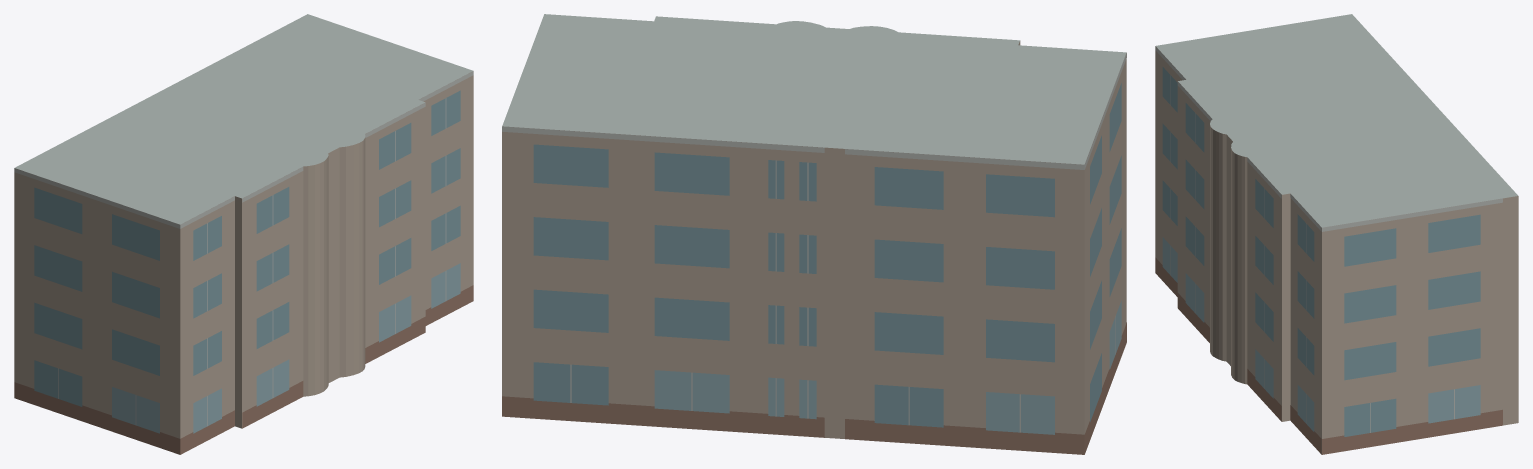
File: survey-upis-32850002.glb
3 renders of one model, left to right at view 1: azimuth 30°, elevation 25°; view 2: azimuth 150°, elevation 25°; view 3: azimuth 270°, elevation 25°, orthographic. The views are drawn at different scales.
Visible parts, largest first — view 1: survey-upis-32850002.tmp; view 2: survey-upis-32850002.tmp; view 3: survey-upis-32850002.tmp.
Part boxes in pixels (x1,y1,x2,y2): survey-upis-32850002.tmp: (14,14,473,454); survey-upis-32850002.tmp: (502,14,1126,454); survey-upis-32850002.tmp: (1155,14,1518,454).
Bounding box in the file's own units: 26.24 × 13 × 18.84.
